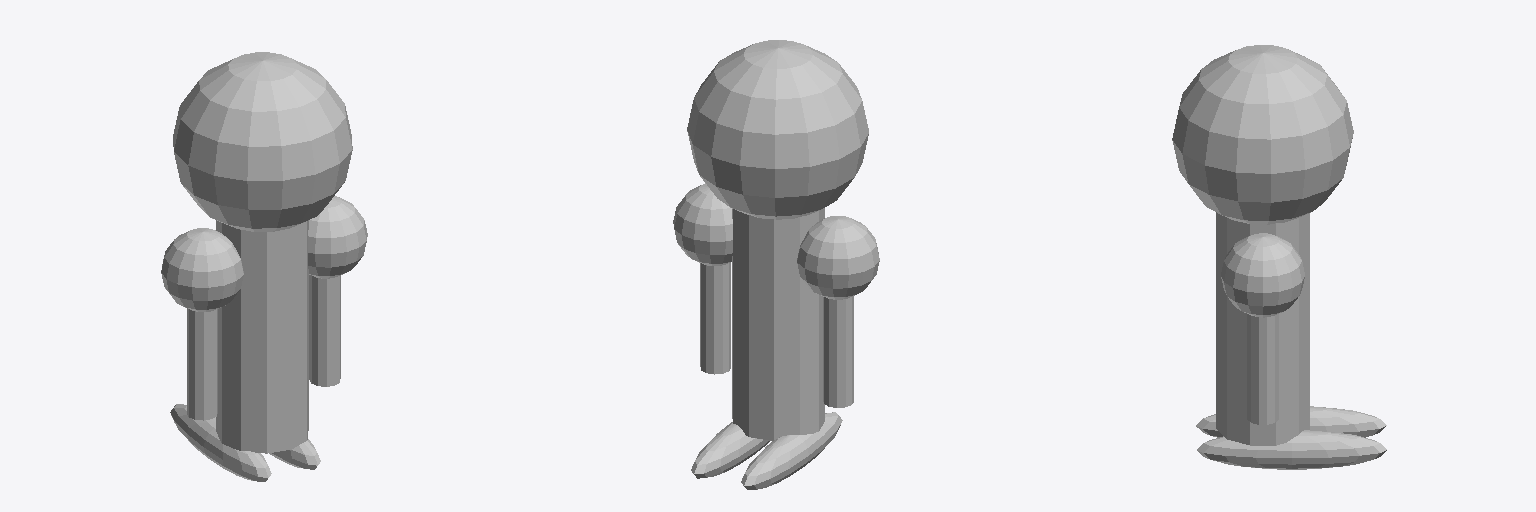
The model's file is guy of rah.obj.
3 renders of one model, left to right at view 1: azimuth 30°, elevation 25°; view 2: azimuth 150°, elevation 25°; view 3: azimuth 270°, elevation 25°, orthographic.
Visible parts, largest first — view 1: Sphere.002, Cylinder, Sphere.001, Sphere, Cylinder.001, Cylinder.002, Sphere.004, Sphere.003; view 2: Sphere.002, Cylinder, Sphere.001, Sphere, Cylinder.002, Cylinder.001, Sphere.004, Sphere.003; view 3: Sphere.002, Cylinder, Sphere, Sphere.003, Cylinder.001, Sphere.004.
Part boxes in pixels (bbox=[...]): Sphere.002: bbox=[173, 52, 352, 231]; Cylinder: bbox=[216, 220, 308, 453]; Sphere.001: bbox=[161, 228, 243, 311]; Sphere: bbox=[308, 196, 367, 278]; Cylinder.001: bbox=[309, 275, 340, 386]; Cylinder.002: bbox=[187, 308, 217, 420]; Sphere.004: bbox=[170, 404, 271, 481]; Sphere.003: bbox=[269, 439, 320, 469]; Sphere.002: bbox=[687, 40, 868, 219]; Cylinder: bbox=[732, 208, 824, 440]; Sphere.001: bbox=[797, 216, 879, 299]; Sphere: bbox=[673, 183, 732, 265]; Cylinder.002: bbox=[823, 296, 853, 407]; Cylinder.001: bbox=[700, 263, 730, 374]; Sphere.004: bbox=[741, 412, 842, 489]; Sphere.003: bbox=[691, 422, 769, 478]; Sphere.002: bbox=[1172, 45, 1353, 224]; Cylinder: bbox=[1216, 212, 1309, 445]; Sphere: bbox=[1221, 233, 1304, 317]; Sphere.003: bbox=[1197, 430, 1386, 469]; Cylinder.001: bbox=[1247, 314, 1278, 424]; Sphere.004: bbox=[1196, 406, 1386, 437].
Size of the model in its own units: 2.73 by 5.38 by 2.6.